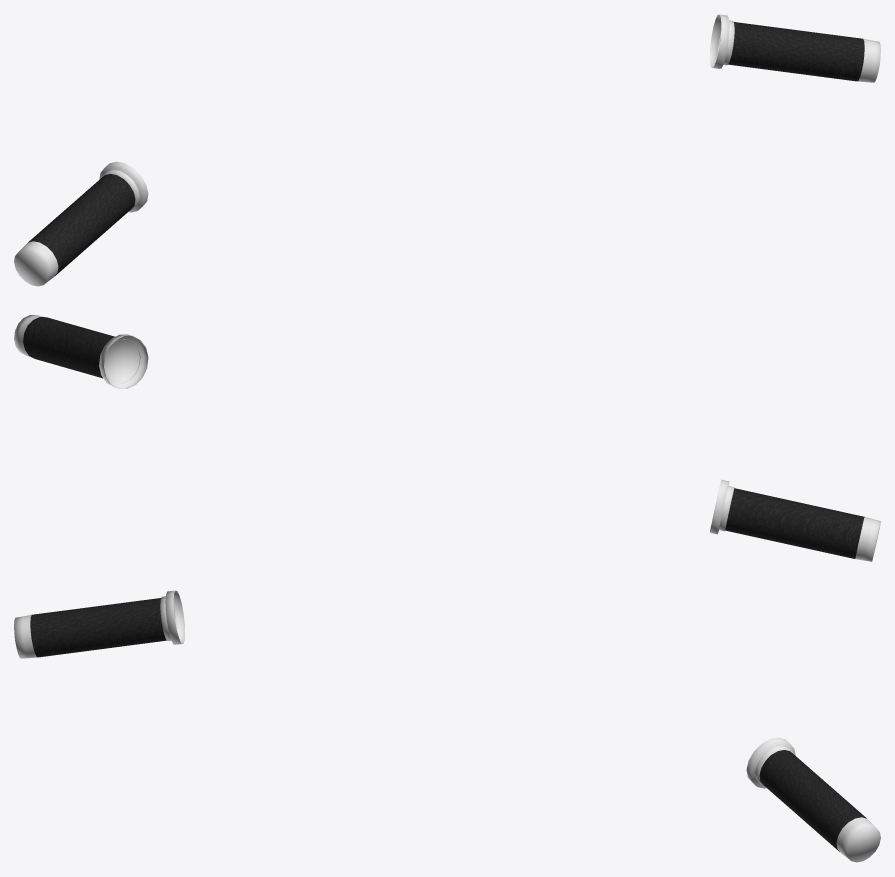
Rendered from Grips_STOCK.glb.
The picture shows the model from 3 angles, top to bottom: view 1: azimuth 30°, elevation 25°; view 2: azimuth 150°, elevation 25°; view 3: azimuth 330°, elevation 25°; orthographic projection.
Parts seen in each view (by area): view 1: material.805; view 2: material.805; view 3: material.805.
Boxes of the visible parts, x1,y1,x2,y2 form: material.805: (14,14,880,286); material.805: (14,315,880,561); material.805: (14,590,880,862).
Size of the model in its own units: 0.8228 by 0.0648 by 0.0905.
2 materials, 1 textured.
